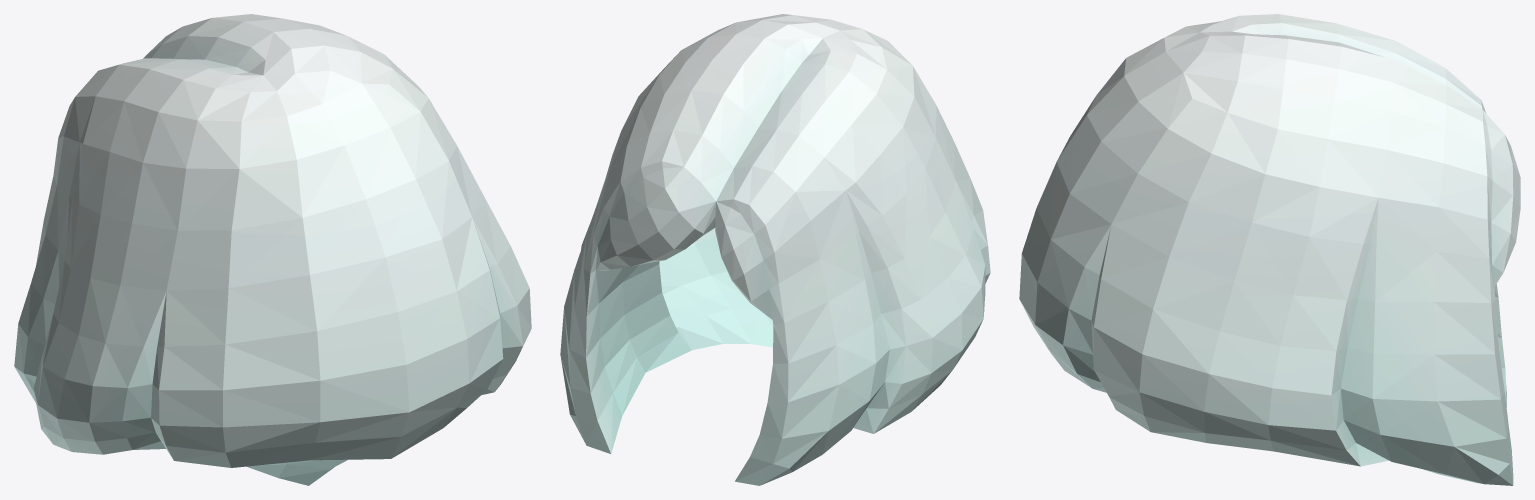
File: CharSkyKid_Hair_AP16RunawayBob.glb
3 renders of one model, left to right at view 1: azimuth 30°, elevation 25°; view 2: azimuth 150°, elevation 25°; view 3: azimuth 270°, elevation 25°, orthographic. The views are drawn at different scales.
Visible parts, largest first — view 1: CharSkyKid_Hair_AP16RunawayBob; view 2: CharSkyKid_Hair_AP16RunawayBob; view 3: CharSkyKid_Hair_AP16RunawayBob.
Part boxes in pixels (left/top/right/bottom): CharSkyKid_Hair_AP16RunawayBob: left=14, top=14, right=531, bottom=485; CharSkyKid_Hair_AP16RunawayBob: left=560, top=14, right=990, bottom=485; CharSkyKid_Hair_AP16RunawayBob: left=1019, top=14, right=1520, bottom=485.
Bounding box in the file's own units: 3.41 × 3.19 × 3.56.
1 material, 1 textured.
